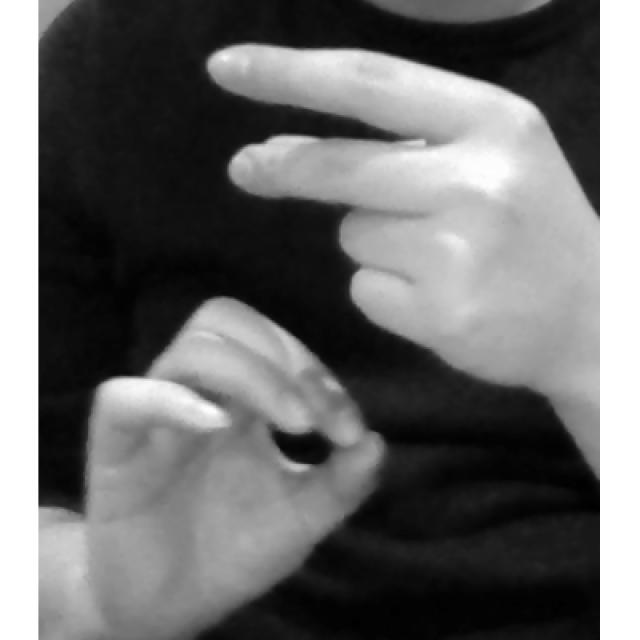O--: (80, 41, 599, 640)
